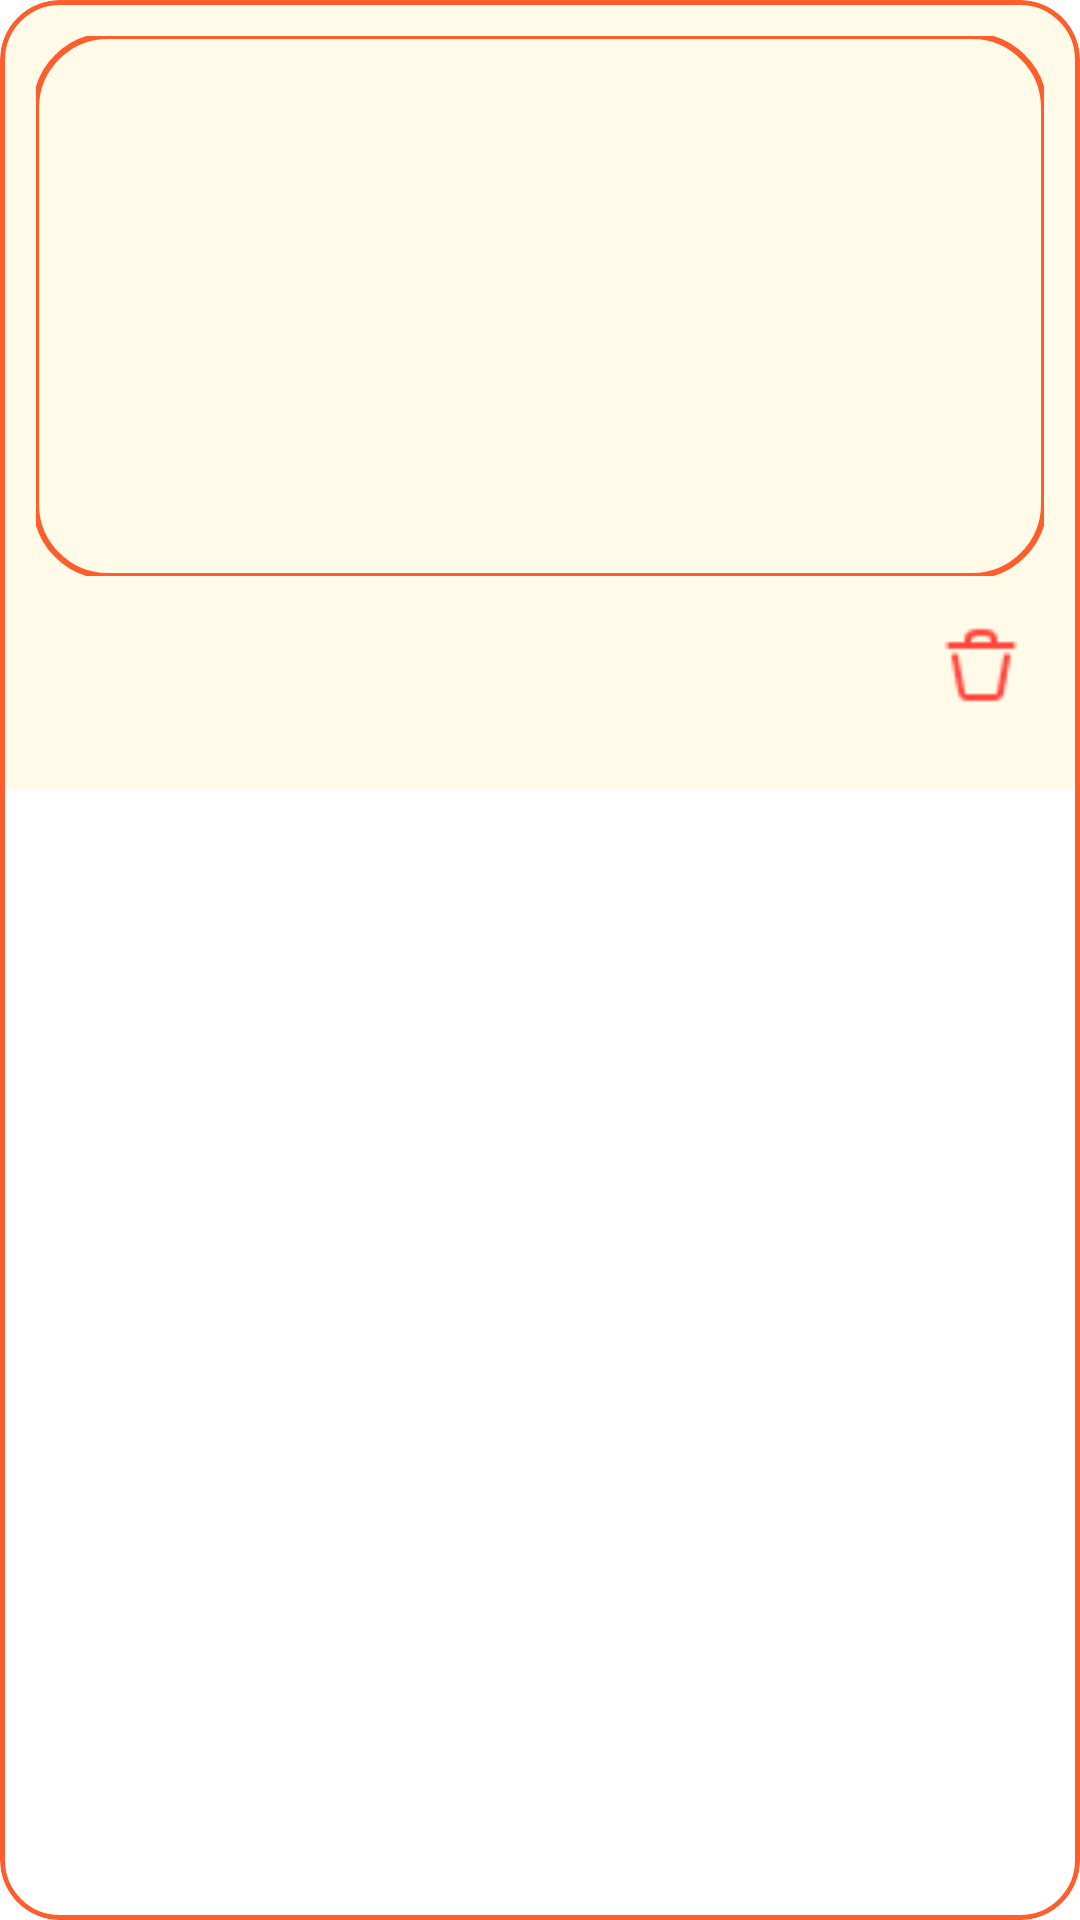

Where to tap for icons on this 1080 x 1920 app screen, as (x,y):
Удалить рецепт: (981,665)
